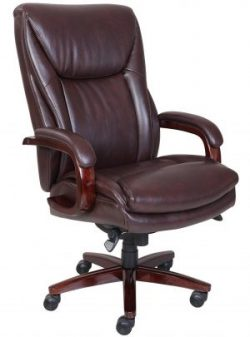chairs: (11, 3, 240, 334)
